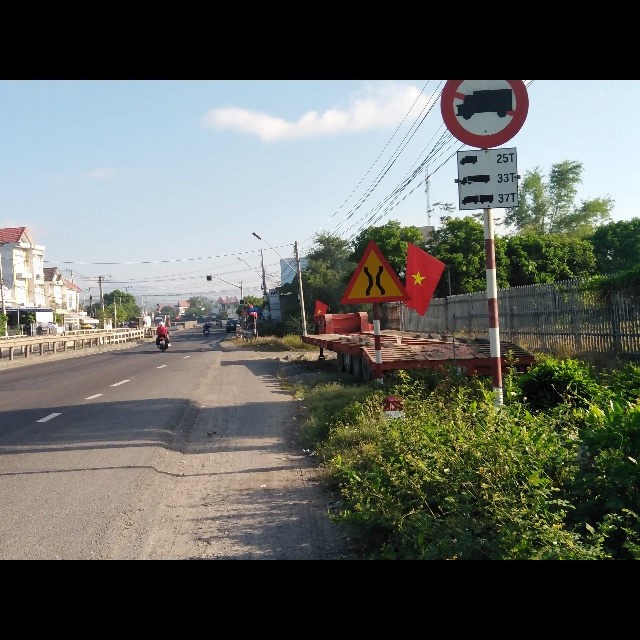Cấm xe tải: (439, 79, 530, 152)
Cầu hẹp: (339, 236, 411, 304)
